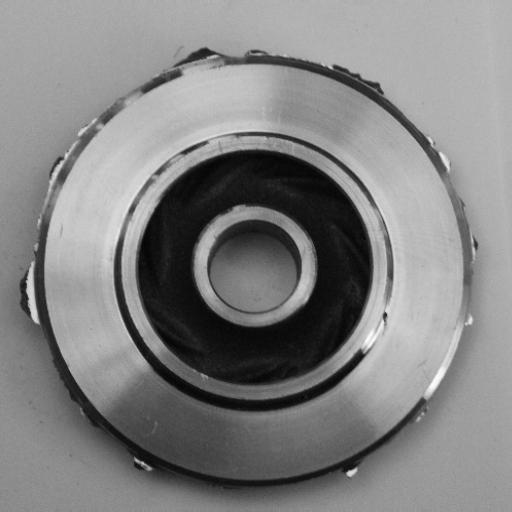casting_with_burr: (18, 41, 481, 492)
scratch: (354, 301, 399, 373)
